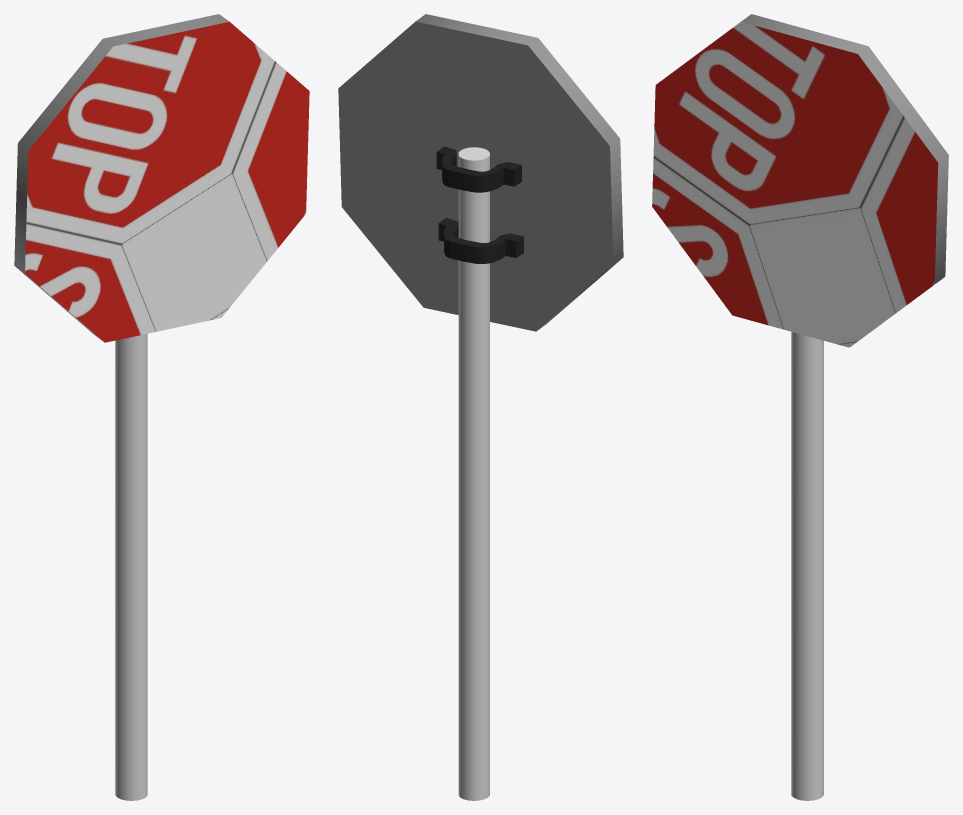
Rendered from STOP.fbx.
3 renders of one model, left to right at view 1: azimuth 30°, elevation 25°; view 2: azimuth 150°, elevation 25°; view 3: azimuth 330°, elevation 25°, orthographic. The views are drawn at different scales.
Visible parts, largest first — view 1: Cylinder001, sipka; view 2: Cylinder001, sipka, s, Line006; view 3: Cylinder001, sipka.
Part boxes in pixels (x1=…): Cylinder001: x1=14, y1=14, x2=309, y2=342; sipka: x1=115, y1=333, x2=147, y2=800; Cylinder001: x1=338, y1=14, x2=623, y2=331; sipka: x1=458, y1=147, x2=489, y2=800; s: x1=436, y1=146, x2=521, y2=192; Line006: x1=438, y1=217, x2=523, y2=263; Cylinder001: x1=652, y1=14, x2=948, y2=347; sipka: x1=791, y1=332, x2=823, y2=800.
Bounding box in the file's own units: 26.36 × 68.61 × 6.38.
Materials: 5 (1 with a texture image).
